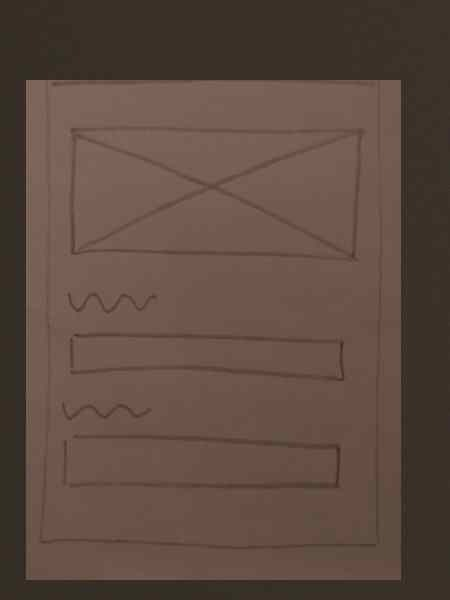image: (64, 122, 368, 264)
text: (62, 284, 159, 319), (59, 390, 156, 425)
text_input: (58, 431, 343, 494), (65, 329, 351, 385)
